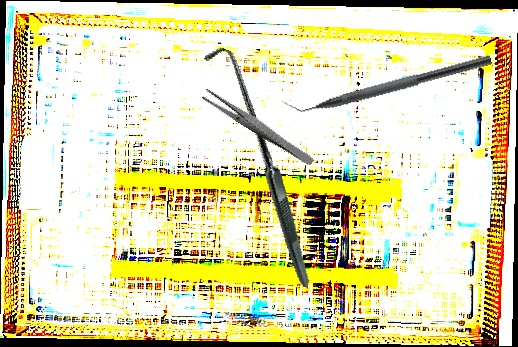Chopper: (280, 41, 493, 123)
Dressing Forceps: (200, 86, 317, 168)
Hook Surgical: (138, 43, 379, 288)
